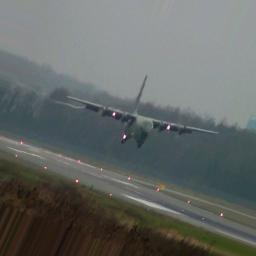Airplane: (64, 75, 221, 149)
